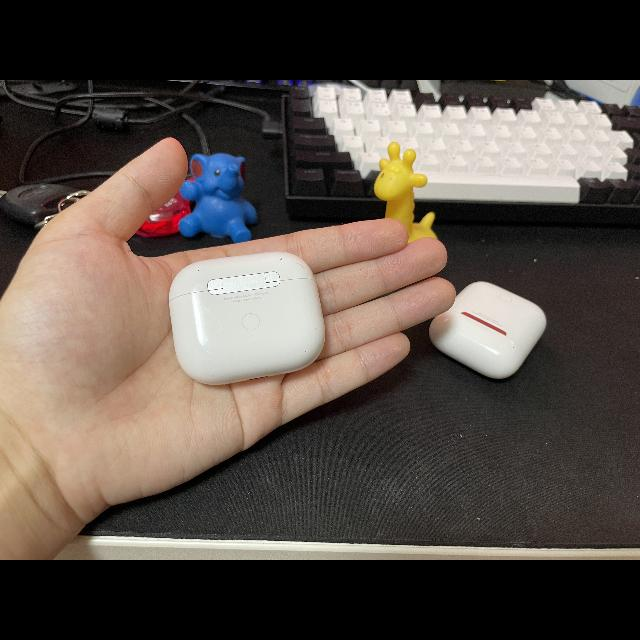airpod2: (421, 269, 549, 383)
airpod3: (157, 251, 333, 387)
